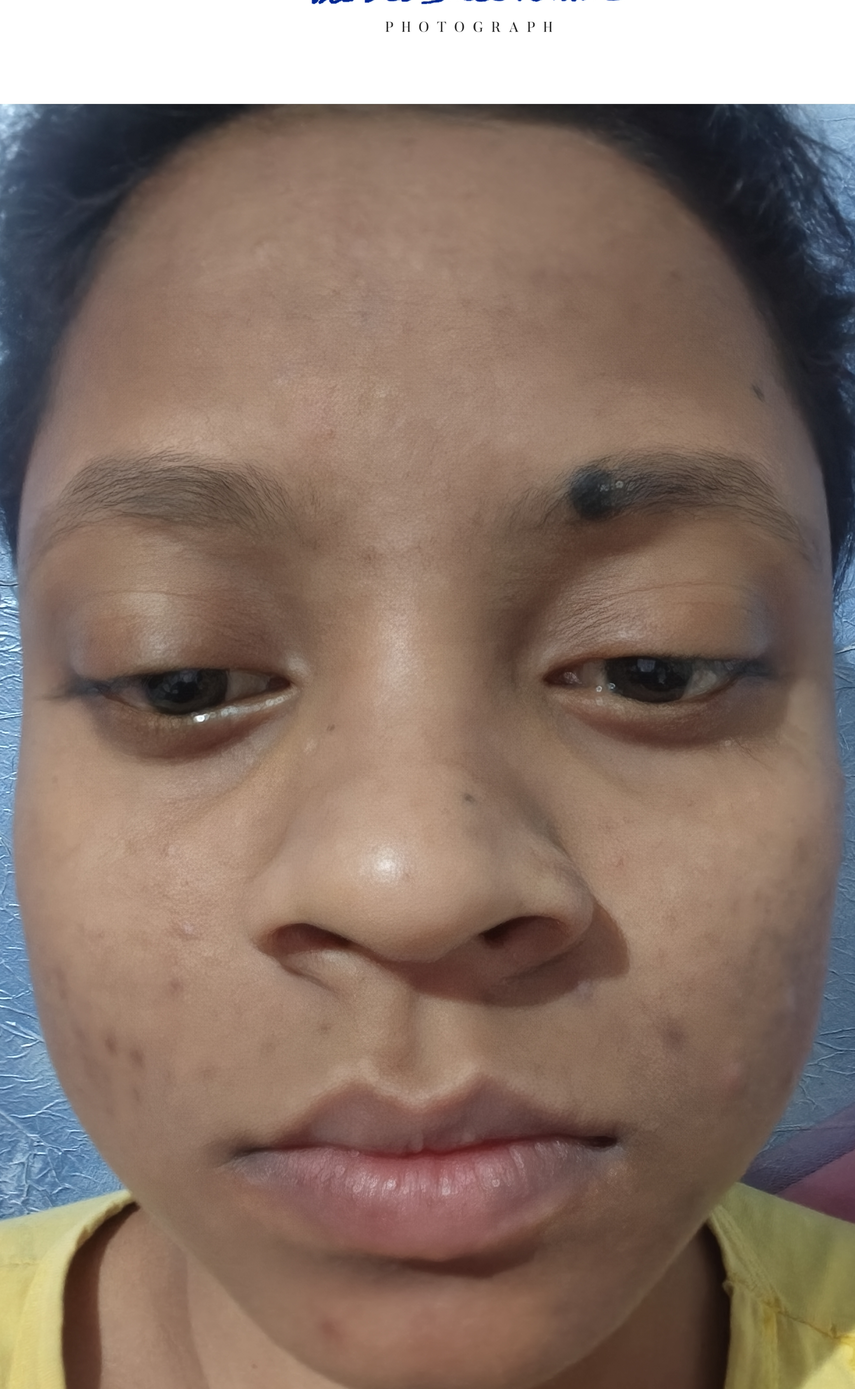papule: (712, 1036, 782, 1110), (758, 972, 830, 1033), (167, 898, 219, 959)
